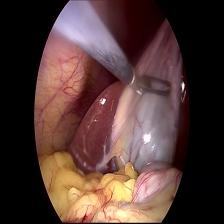Grasper: (130, 61, 174, 116)
